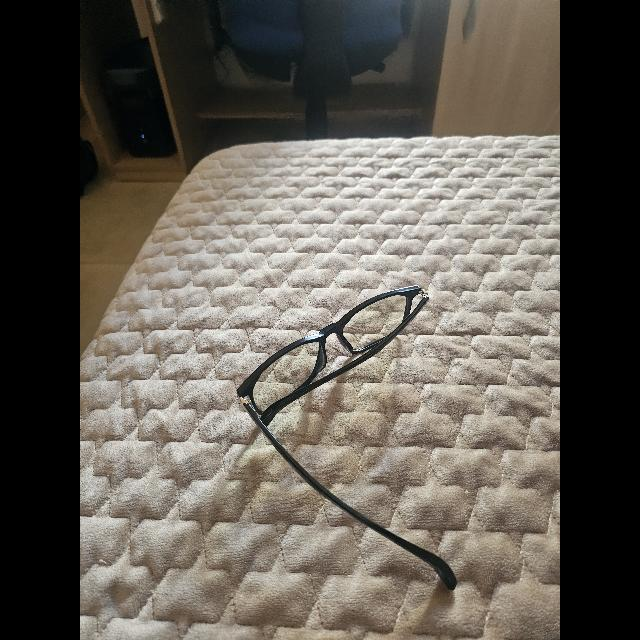glasses: (238, 286, 457, 590)
